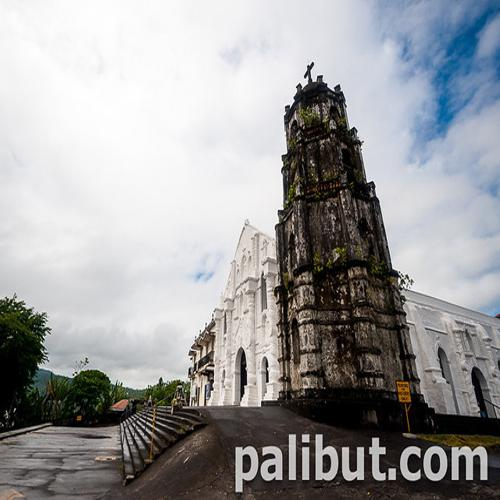Daraga Church: (212, 47, 428, 430)
